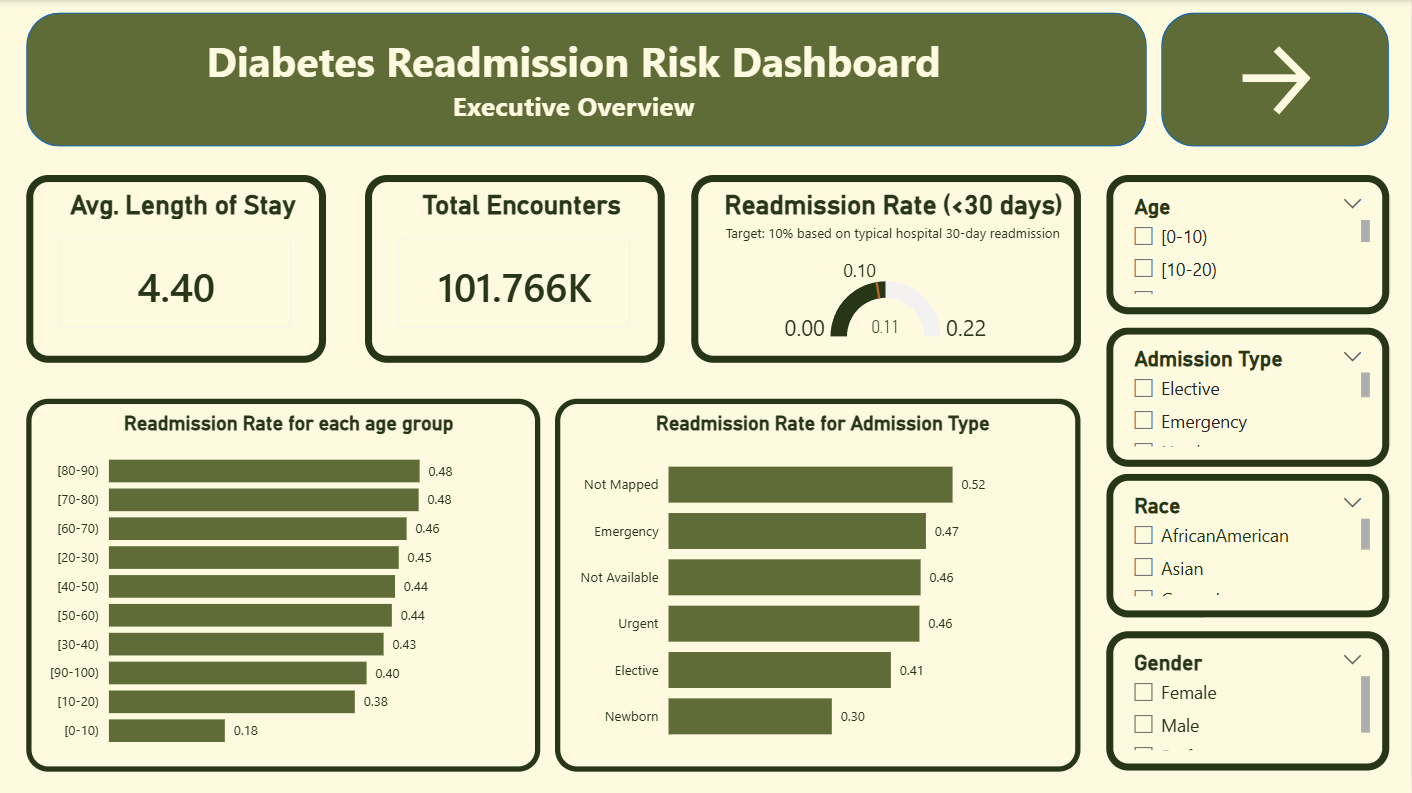

The page's visual inventory and layout, read from the dashboard file:
{"tool":"powerbi","page":{"name":"Executive Overview","canvas":[1280,720],"ordinal":0},"visuals":[{"type":"gauge","title":"Readmission Rate (<30 days) ","fields":{"Y":["diabetic_data1.Readmission Rate (<30 days)"],"TargetValue":["diabetic_data1.Target Readmission Rate"]},"box":[626.7,158.3,353.3,170],"z":0},{"type":"cardVisual","title":"Total Encounters","fields":{"Data":["CountNonNull(diabetic_data1.encounter_id)"]},"box":[331.7,158.3,271.7,170],"z":1000},{"type":"cardVisual","title":"Avg. Length of Stay","fields":{"Data":["diabetic_data1.Avg Length of Stay"]},"box":[23.3,158.3,271.7,170],"z":2000},{"type":"barChart","title":"Readmission Rate for each age group","fields":{"Y":["diabetic_data1.Readmission Rate"],"Category":["diabetic_data1.age"]},"box":[23.3,361.7,466.7,338.3],"z":3000},{"type":"barChart","title":"Readmission Rate for Admission Type","fields":{"Y":["diabetic_data1.Readmission Rate"],"Category":["diabetic_data1.admission_type"]},"box":[503.3,361.7,476.7,338.3],"z":4000},{"type":"shape","box":[23.3,11.7,1016.7,121.7],"z":5000},{"type":"textbox","box":[160.5,24.7,719,97.4],"z":6000},{"type":"slicer","fields":{"Values":["diabetic_data1.age"]},"box":[1003.3,158.3,256.7,126.7],"z":7000},{"type":"slicer","fields":{"Values":["diabetic_data1.race"]},"box":[1003.3,430,256.7,130],"z":8000},{"type":"slicer","fields":{"Values":["diabetic_data1.admission_type"]},"box":[1003.3,296.7,256.7,126.7],"z":9000},{"type":"slicer","fields":{"Values":["diabetic_data1.gender"]},"box":[1003.3,573.3,256.7,126.7],"z":10000},{"type":"shape","box":[1053.3,11.7,206.7,121.7],"z":11000},{"type":"actionButton","box":[1113.3,36.7,85,73.3],"z":12000}]}

Visuals, with their boxes in screenshot pixels (x1, y1, x2, y2), scaled from the page's 1280x720 canvas onto the 1412x793 screenshot:
"Readmission Rate (<30 days) " gauge: 691, 174, 1081, 362
"Total Encounters" cardVisual: 366, 174, 666, 362
"Avg. Length of Stay" cardVisual: 26, 174, 325, 362
"Readmission Rate for each age group" barChart: 26, 398, 541, 771
"Readmission Rate for Admission Type" barChart: 555, 398, 1081, 771
shape: 26, 13, 1147, 147
textbox: 177, 27, 970, 134
slicer - diabetic_data1.age: 1107, 174, 1390, 314
slicer - diabetic_data1.race: 1107, 474, 1390, 617
slicer - diabetic_data1.admission_type: 1107, 327, 1390, 466
slicer - diabetic_data1.gender: 1107, 631, 1390, 771
shape: 1162, 13, 1390, 147
actionButton: 1228, 40, 1322, 121
